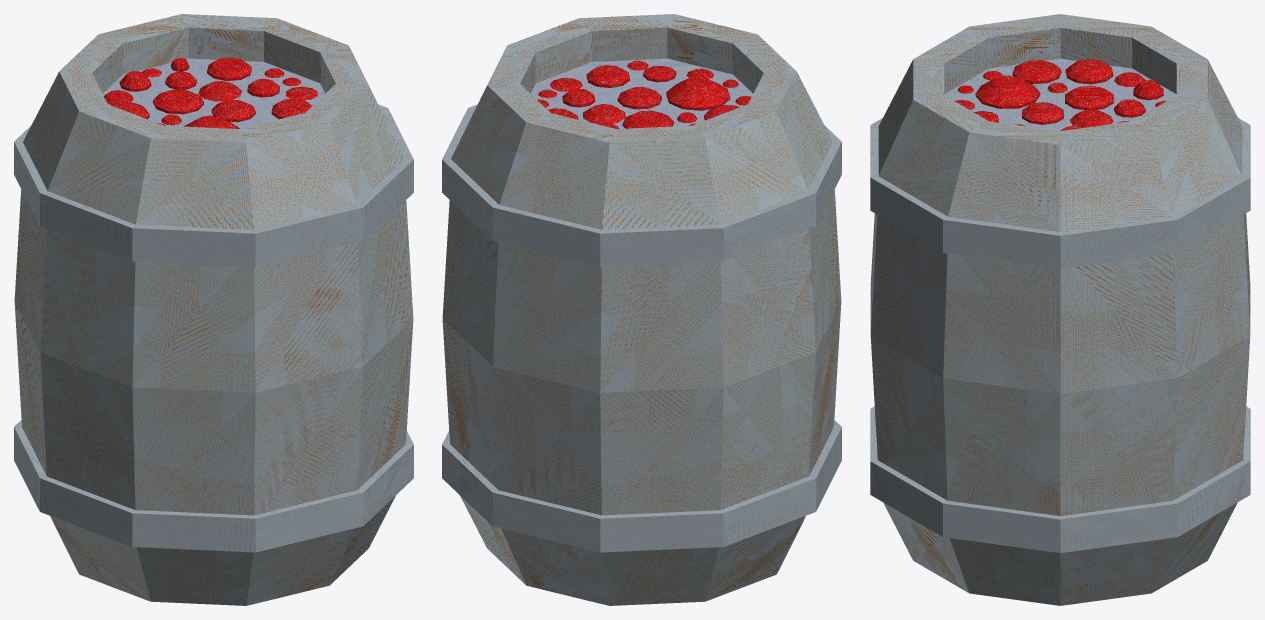
The model's file is Barrel_Apples_01.fbx.
The picture shows the model from 3 angles, left to right: view 1: azimuth 30°, elevation 25°; view 2: azimuth 150°, elevation 25°; view 3: azimuth 270°, elevation 25°; orthographic projection.
Parts seen in each view (by area): view 1: Model; view 2: Model; view 3: Model.
Part boxes in pixels (x1,y1,x2,y2): Model: (14, 14, 413, 605); Model: (442, 14, 841, 605); Model: (870, 14, 1250, 605).
Size of the model in its own units: 158 by 200 by 150.
